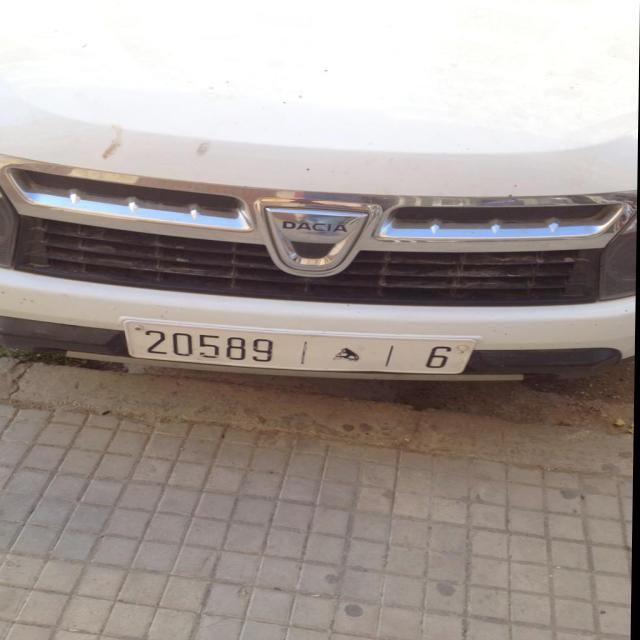License-Plate: (125, 320, 478, 374)
